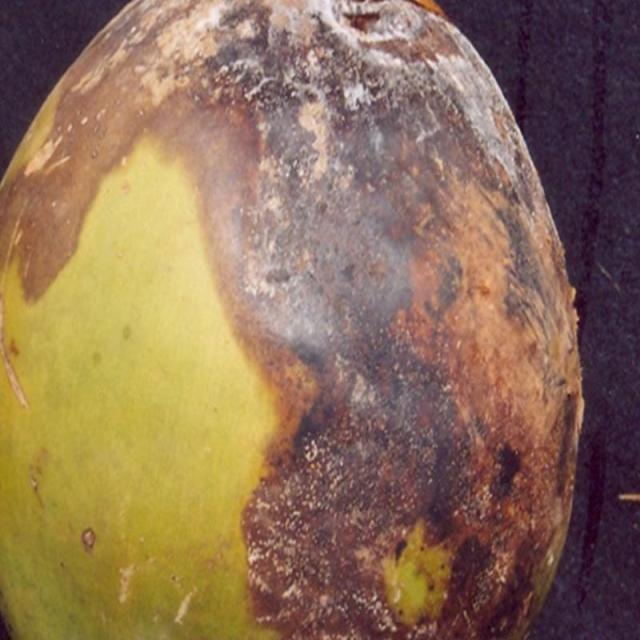damaged: (0, 0, 587, 639)
